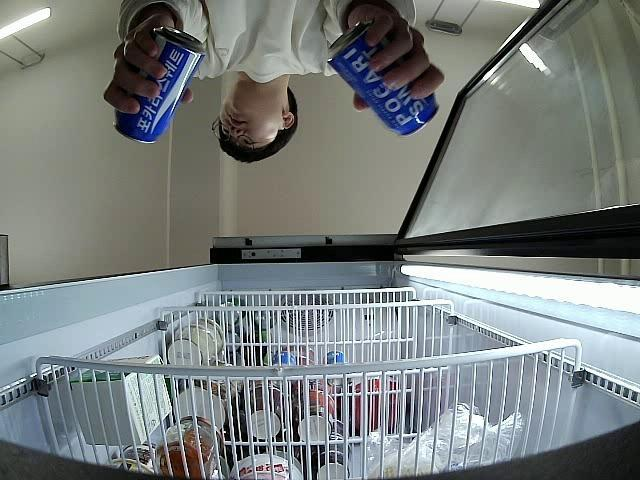13_pocariSweat: (346, 6, 446, 114), (102, 14, 194, 115)
